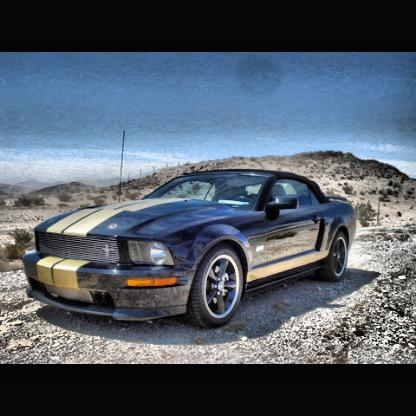Ford Mustang Convertible 2007: (25, 170, 356, 327)
